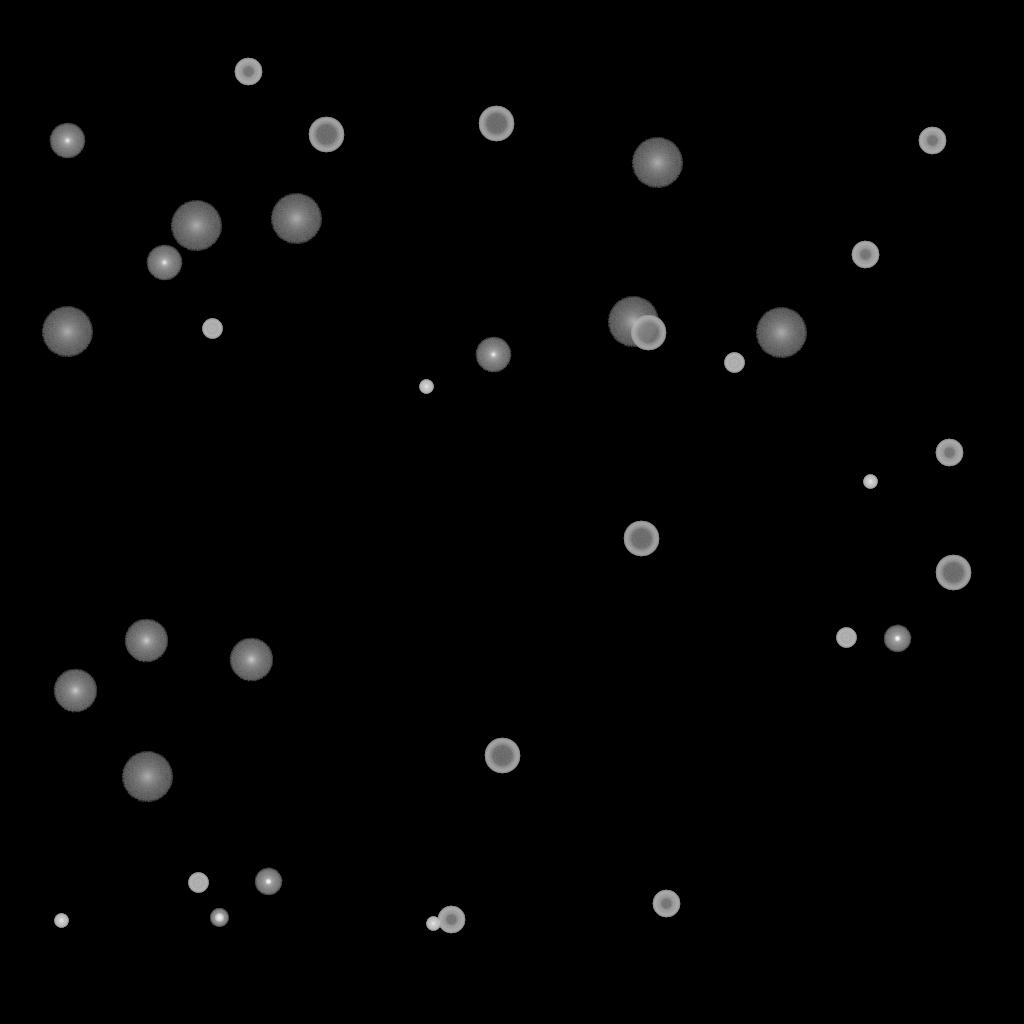depth:-10: (254, 868, 282, 896), (883, 625, 911, 653)
depth:-20: (210, 909, 228, 927)
depth:-30: (54, 914, 68, 928), (863, 475, 877, 489), (426, 917, 440, 931), (419, 380, 433, 394)
depth:-40: (836, 628, 856, 648), (724, 353, 744, 373), (188, 873, 208, 893), (202, 319, 222, 339)
depth:-50: (437, 906, 465, 934), (918, 127, 946, 155), (851, 241, 879, 269), (234, 58, 262, 86), (652, 890, 680, 918), (935, 439, 963, 467)
depth:-60: (630, 315, 666, 351), (935, 555, 971, 591), (308, 117, 344, 153), (623, 521, 659, 557), (478, 106, 514, 142), (484, 738, 520, 774)
depth:0: (146, 245, 182, 281), (49, 123, 85, 159), (475, 337, 511, 373)
depth:10: (229, 638, 273, 682), (124, 619, 168, 663), (53, 669, 97, 713)
depth:20: (755, 308, 807, 358), (607, 297, 659, 347), (121, 752, 173, 802), (631, 138, 683, 188), (270, 194, 322, 244), (170, 201, 222, 251), (41, 307, 93, 357)
